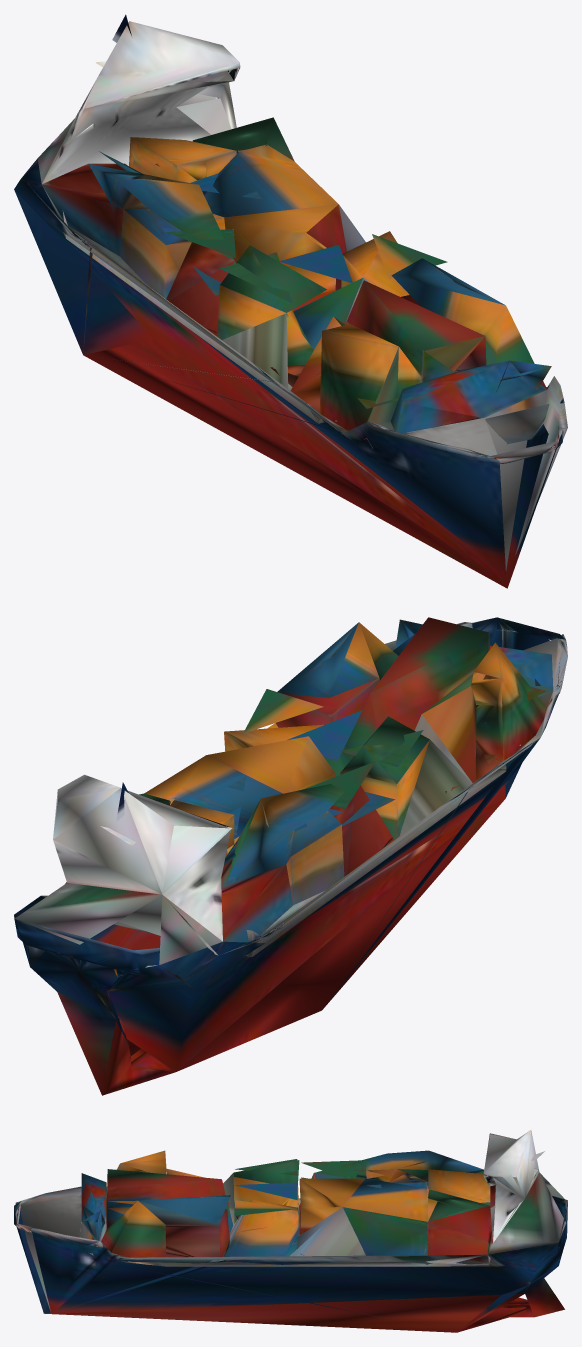
Rendered from hafen_frachtschiff_einfach_lo.glb.
3 views of the same model, one above another, from view 1: azimuth 30°, elevation 25°; view 2: azimuth 150°, elevation 25°; view 3: azimuth 270°, elevation 25° (orthographic). The views are drawn at different scales.
Visible parts, largest first — view 1: Prop; view 2: Prop; view 3: Prop.
Part boxes in pixels (x1,y1,x2,y2): Prop: (14, 14, 567, 588); Prop: (14, 617, 567, 1095); Prop: (14, 1130, 567, 1332).
Bounding box in the file's own units: 0.7655 × 0.9916 × 2.61.
Materials: 1 (1 with a texture image).
